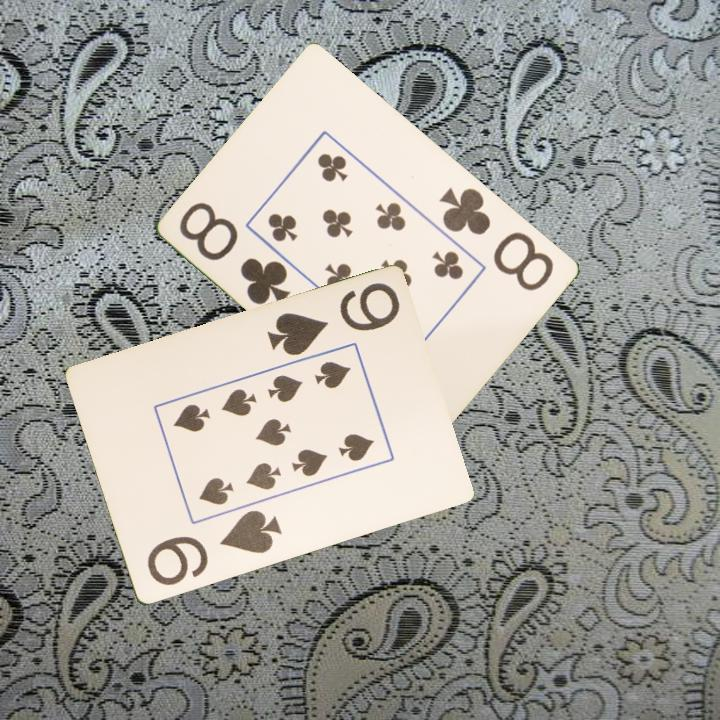8c: (436, 183, 558, 295), (176, 198, 294, 309)
9s: (143, 507, 285, 589), (262, 279, 403, 360)
